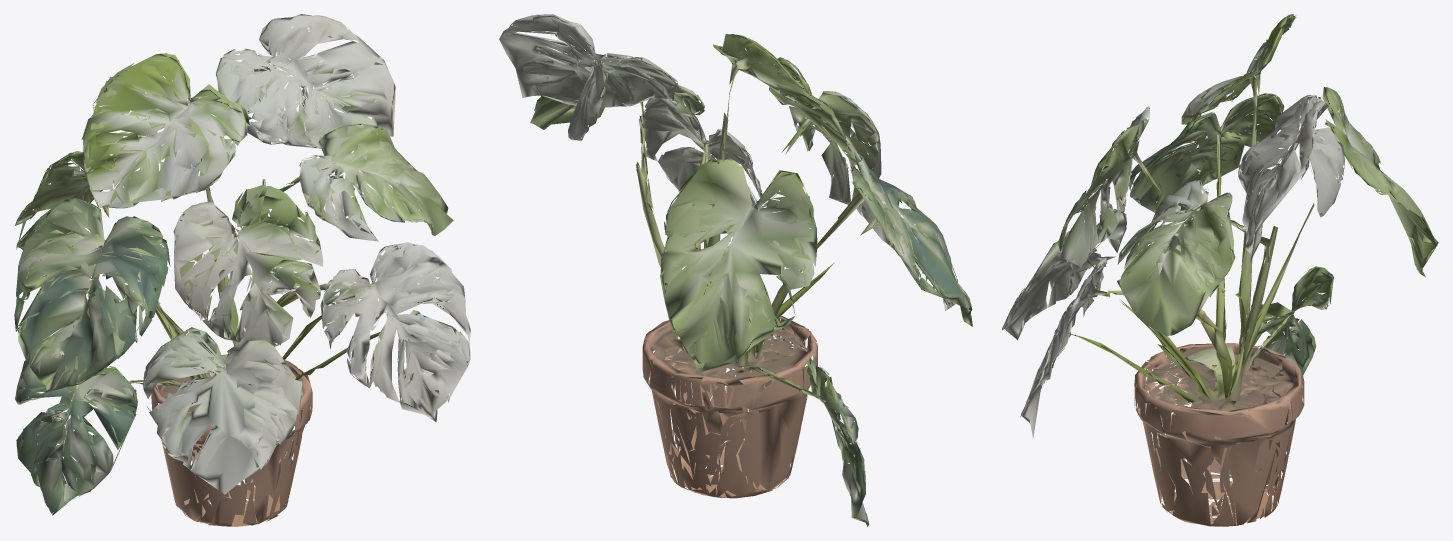
File: monstera.glb
3 renders of one model, left to right at view 1: azimuth 30°, elevation 25°; view 2: azimuth 150°, elevation 25°; view 3: azimuth 270°, elevation 25°, orthographic. The views are drawn at different scales.
Visible parts, largest first — view 1: Object_2; view 2: Object_2; view 3: Object_2.
Part boxes in pixels (box(x1,y1,x2,y2)): Object_2: box(14, 14, 470, 526); Object_2: box(499, 14, 972, 526); Object_2: box(1002, 14, 1438, 526).
Size of the model in its own units: 0.9579 by 0.9774 by 0.8368.
